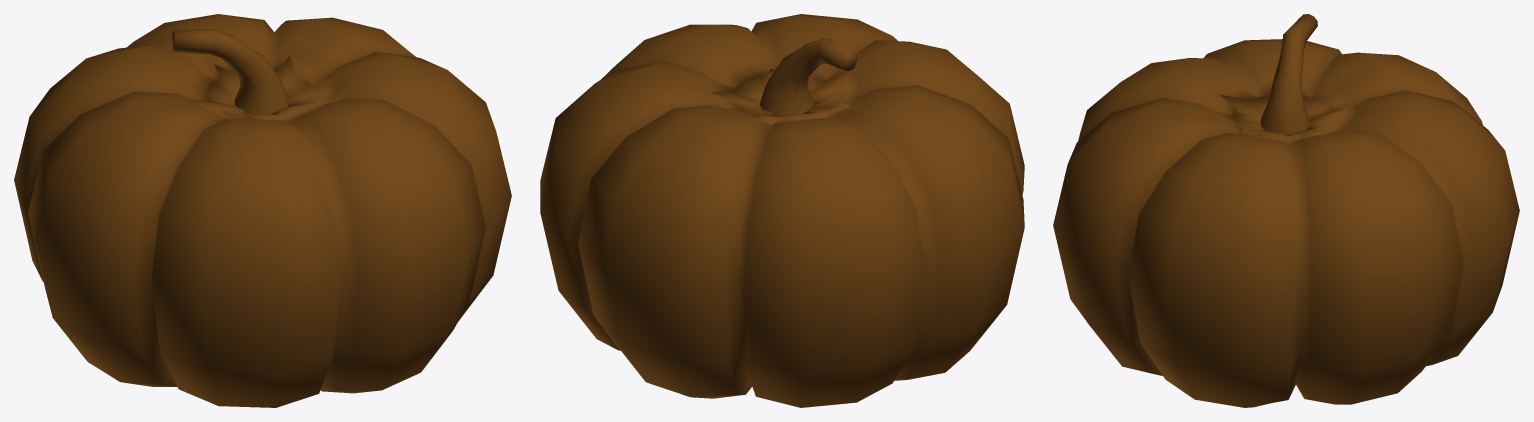
Rendered from ZuccaBad.fbx.
3 renders of one model, left to right at view 1: azimuth 30°, elevation 25°; view 2: azimuth 150°, elevation 25°; view 3: azimuth 270°, elevation 25°, orthographic. The views are drawn at different scales.
Parts seen in each view (by area): view 1: Zucca.002; view 2: Zucca.002; view 3: Zucca.002.
Part boxes in pixels (x1,y1,x2,y2): Zucca.002: (14, 14, 511, 407); Zucca.002: (540, 14, 1024, 407); Zucca.002: (1053, 14, 1519, 407).
Bounding box in the file's own units: 61.16 × 44.1 × 61.67.
